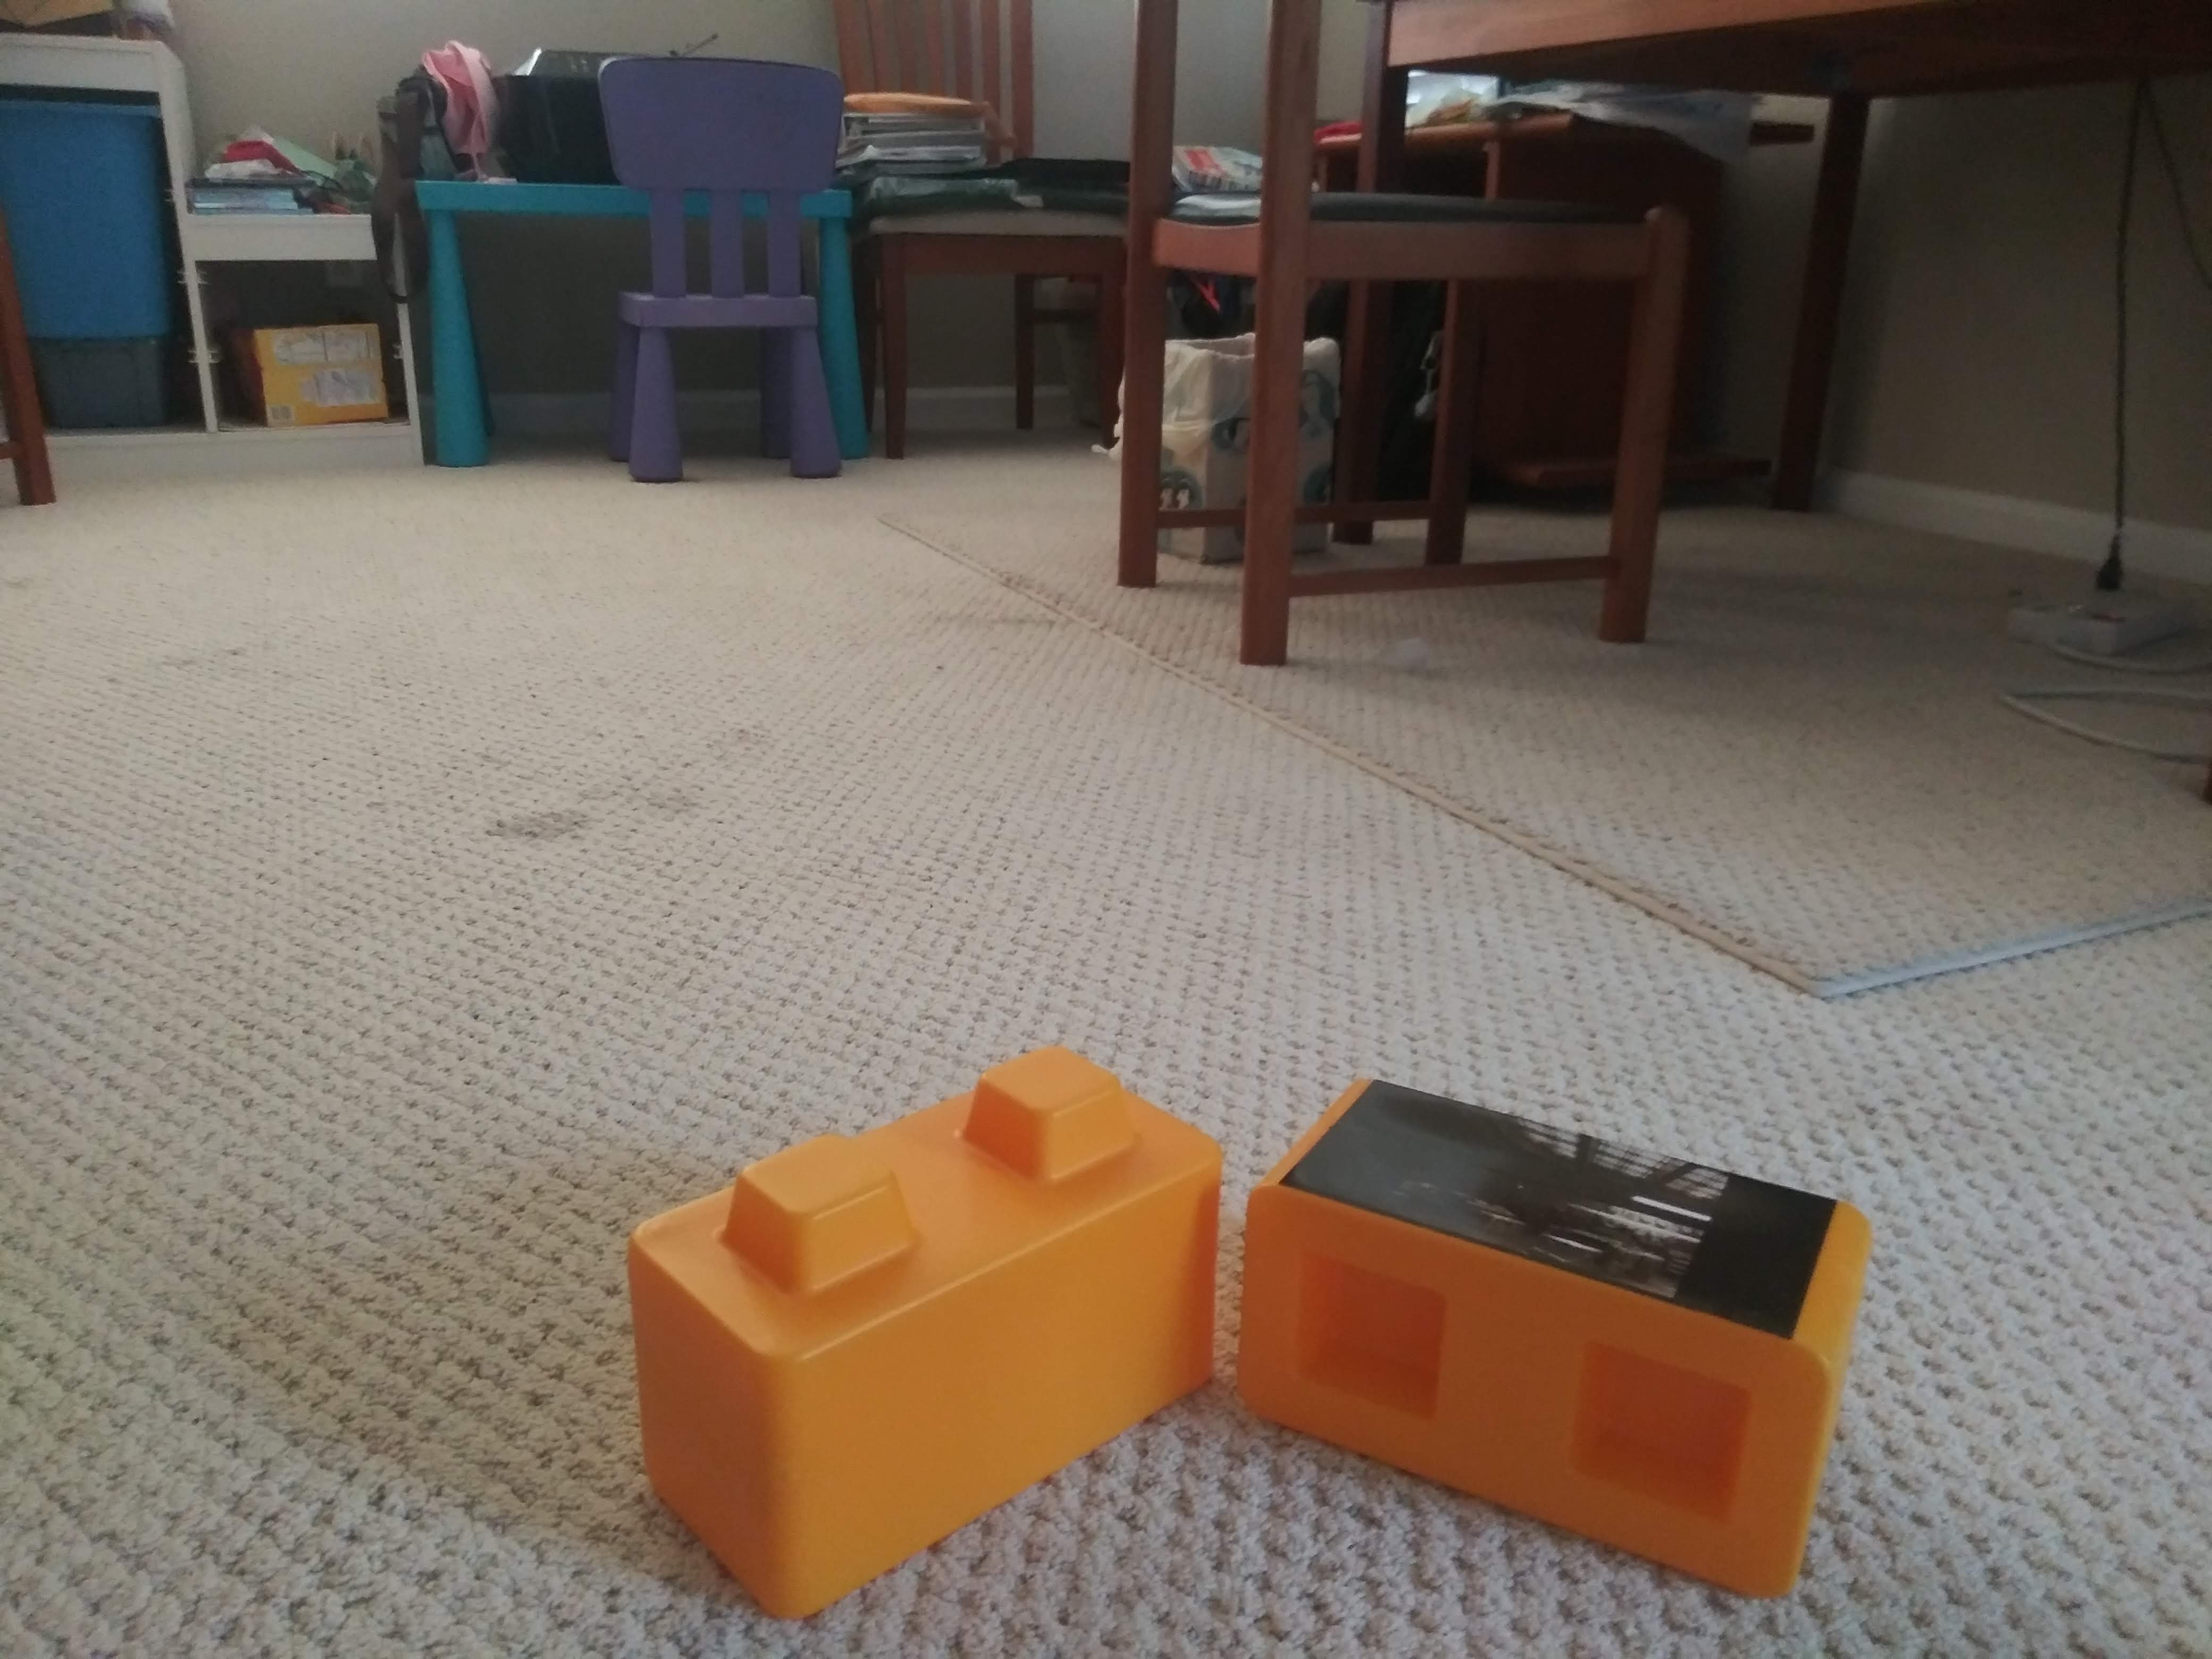skystone: (1261, 1084, 1844, 1568)
stone: (631, 1101, 1211, 1539)
